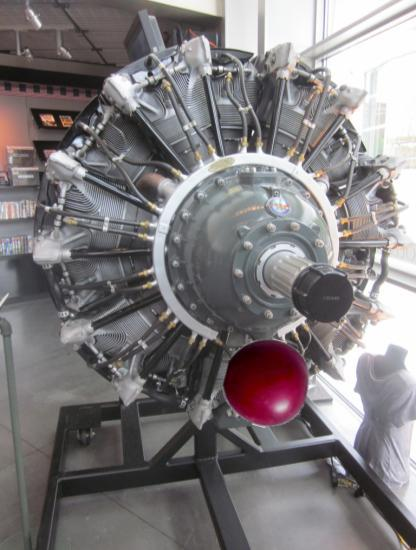Cherry: (222, 338, 311, 427)
